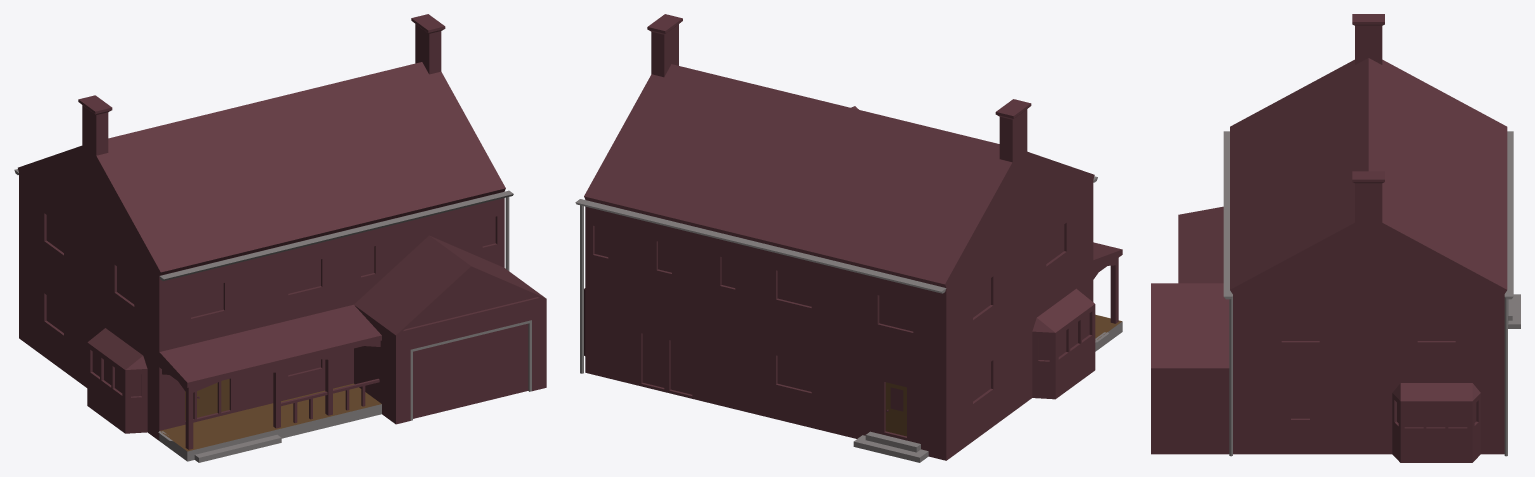
Rendered from building-house-family-large.fbx.
3 renders of one model, left to right at view 1: azimuth 30°, elevation 25°; view 2: azimuth 150°, elevation 25°; view 3: azimuth 270°, elevation 25°, orthographic. The views are drawn at different scales.
Parts seen in each view (by area): view 1: building-house-family-large; view 2: building-house-family-large; view 3: building-house-family-large.
Part boxes in pixels (box(x1,y1,x2,y2)): building-house-family-large: box(14, 14, 546, 462); building-house-family-large: box(575, 14, 1122, 462); building-house-family-large: box(1151, 14, 1520, 462).
Bounding box in the file's own units: 15.68 × 11.2 × 13.6.
